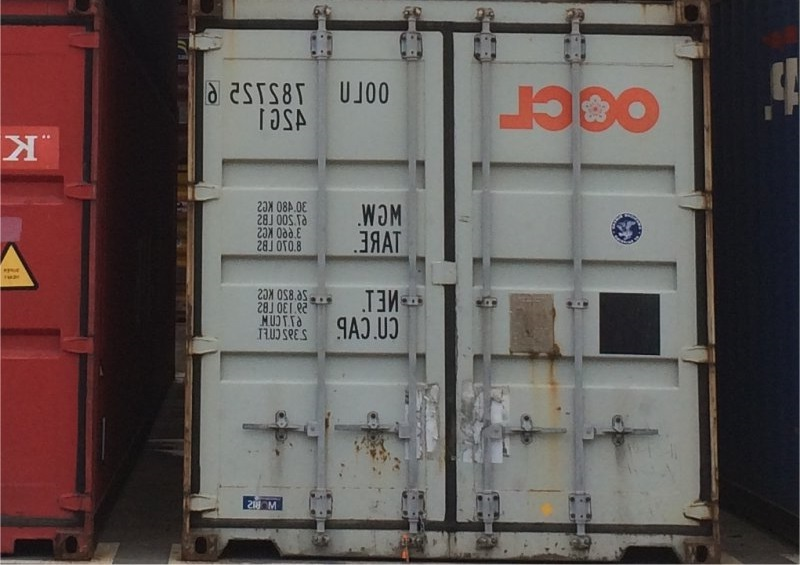container_door: (171, 11, 723, 565)
